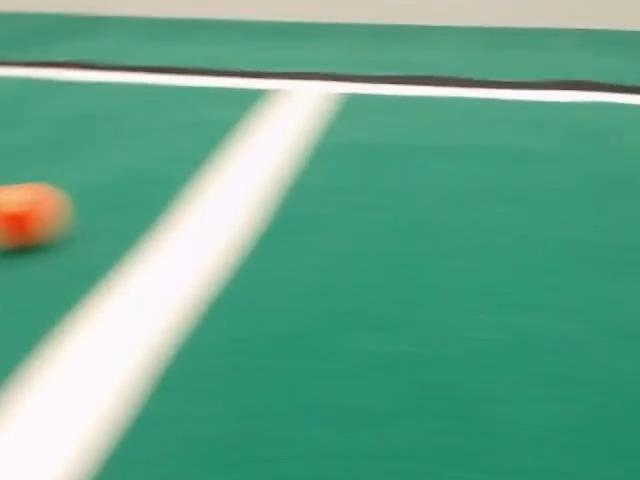Ball: (0, 183, 71, 250)
